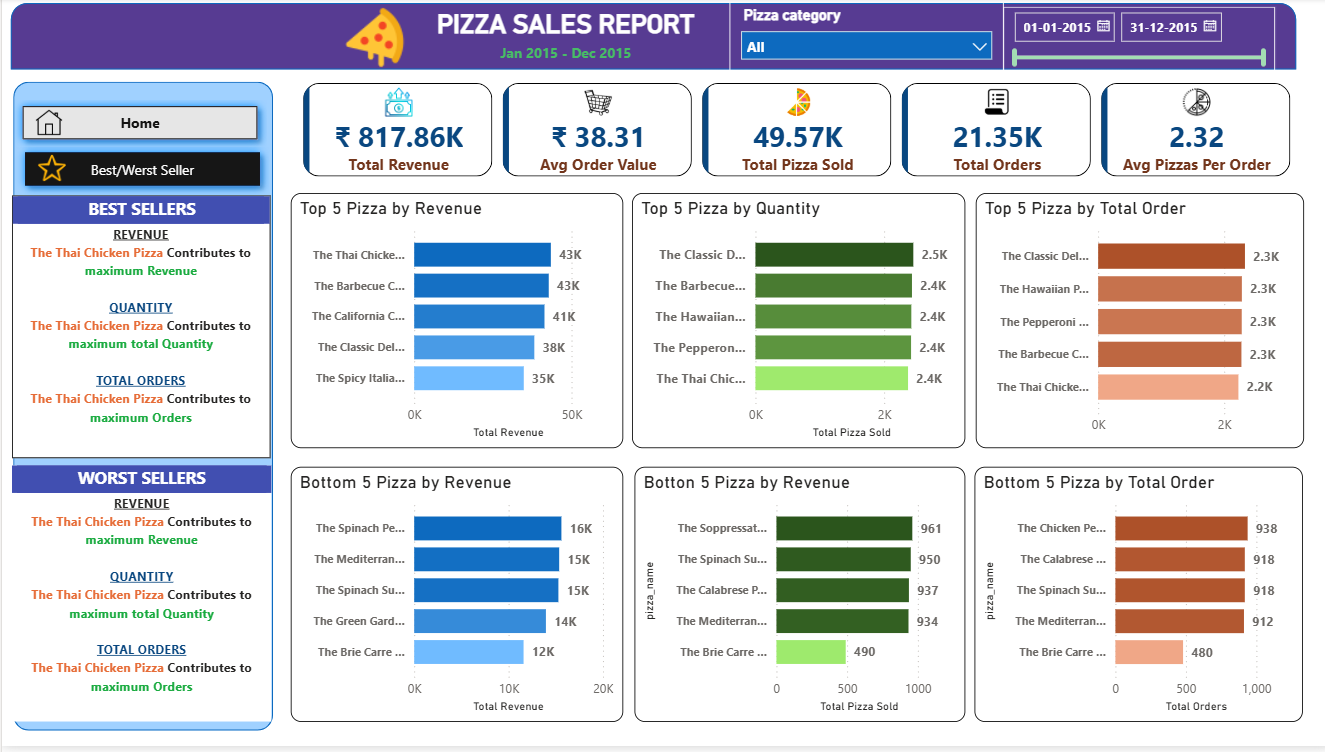

The page's visual inventory and layout, read from the dashboard file:
{"tool":"powerbi","page":{"name":"Best/Werst Seller","canvas":[1280,720],"ordinal":1},"visuals":[{"type":"group","id":"g1","title":"Group 1","box":[9,5.2,1237.2,64],"z":0},{"type":"pageNavigator","box":[13.5,139.9,245,50.4],"z":0,"group":"g6"},{"type":"slicer","fields":{"Values":["Pizza_Sales_Data.pizza_category"]},"box":[700,2.3,264,68.6],"z":1000},{"type":"shape","box":[10.5,80.2,250,624.4],"z":1000,"group":"g2"},{"type":"image","box":[33.9,149.5,28.8,28.8],"z":1000,"group":"g6"},{"type":"textbox","title":"BEST SELLERS","box":[10,190,248.4,252.9],"z":1000,"group":"g3"},{"type":"shape","box":[9,5.2,1237.2,64],"z":2000,"group":"g1"},{"type":"cardVisual","fields":{"Data":["Pizza_Sales_Data.Total_Revenue","Pizza_Sales_Data.Avg_Order_Value","Pizza_Sales_Data.Total_Pizza_Sold","Pizza_Sales_Data.Total_Orders","Pizza_Sales_Data.Avg_Pizzas_per_Order"]},"box":[278.2,70.2,974.8,114.5],"z":2000},{"type":"slicer","fields":{"Values":["Date Table.Date"]},"box":[964,8.1,261.6,62.8],"z":3000},{"type":"textbox","title":"PIZZA SALES REPORT","box":[398.4,10.8,288.8,52],"z":3000,"group":"g1"},{"type":"textbox","title":"WORST SELLERS","box":[10,449.7,249.5,246.2],"z":3000,"group":"g3"},{"type":"image","box":[309.3,5.8,98.8,64],"z":4000},{"type":"group","id":"g2","title":"Group 3","box":[10.5,80.2,250,624.4],"z":5000},{"type":"barChart","title":"Top 5 Pizza by Revenue","fields":{"Y":["Pizza_Sales_Data.Total Revenue"],"Category":["Pizza_Sales_Data.pizza_name"]},"box":[278.2,188.5,319.7,245.5],"z":5000,"group":"g4"},{"type":"barChart","title":"Top 5 Pizza by Quantity","fields":{"Y":["Pizza_Sales_Data.Total Pizza Sold"],"Category":["Pizza_Sales_Data.pizza_name"]},"box":[607,188.5,320.8,245.5],"z":6000,"group":"g4"},{"type":"group","id":"g3","title":"Group 1","box":[10,190,249.6,505.8],"z":6000},{"type":"group","id":"g4","title":"Group 1","box":[278.2,188.1,974.8,508.3],"z":7000},{"type":"barChart","title":"Top 5 Pizza by Total Order","fields":{"Category":["Pizza_Sales_Data.pizza_name"],"Y":["Pizza_Sales_Data.Total Orders"]},"box":[937.4,188.1,316,245.6],"z":7000,"group":"g4"},{"type":"pageNavigator","box":[11.3,94.7,245,50.4],"z":8000,"group":"g5"},{"type":"barChart","title":"Bottom 5 Pizza by Revenue","fields":{"Y":["Pizza_Sales_Data.Total Revenue"],"Category":["Pizza_Sales_Data.pizza_name"]},"box":[278.2,451,319.7,245.5],"z":8000,"group":"g4"},{"type":"group","id":"g5","title":"Group 4","box":[11.3,94.7,245,50.4],"z":9000},{"type":"image","box":[31.7,106.7,27.6,26.4],"z":9000,"group":"g5"},{"type":"barChart","title":"Botton 5 Pizza by Revenue","fields":{"Y":["Pizza_Sales_Data.Total Pizza Sold"],"Category":["Pizza_Sales_Data.pizza_name"]},"box":[609.3,451,318.5,245.5],"z":9000,"group":"g4"},{"type":"group","id":"g6","title":"Group 2","box":[13.5,139.9,245,50.4],"z":9500},{"type":"barChart","title":"Bottom 5 Pizza by Total Order","fields":{"Category":["Pizza_Sales_Data.pizza_name"],"Y":["Pizza_Sales_Data.Total Orders"]},"box":[936.3,451,316,245.6],"z":10000,"group":"g4"}]}

Visuals, with their boxes in screenshot pixels (x1, y1, x2, y2), scaled from the page's 1280x720 canvas onto the 1325x752 screenshot:
"Group 1" group: rect(9, 5, 1290, 72)
pageNavigator: rect(14, 146, 268, 199)
slicer - Pizza_Sales_Data.pizza_category: rect(725, 2, 998, 74)
shape: rect(11, 84, 270, 736)
image: rect(35, 156, 65, 186)
"BEST SELLERS" textbox: rect(10, 198, 267, 463)
shape: rect(9, 5, 1290, 72)
cardVisual - Pizza_Sales_Data.Total_Revenue x Pizza_Sales_Data.Avg_Order_Value: rect(288, 73, 1297, 193)
slicer - Date Table.Date: rect(998, 8, 1269, 74)
"PIZZA SALES REPORT" textbox: rect(412, 11, 711, 66)
"WORST SELLERS" textbox: rect(10, 470, 269, 727)
image: rect(320, 6, 422, 73)
"Group 3" group: rect(11, 84, 270, 736)
"Top 5 Pizza by Revenue" barChart: rect(288, 197, 619, 453)
"Top 5 Pizza by Quantity" barChart: rect(628, 197, 960, 453)
"Group 1" group: rect(10, 198, 269, 727)
"Group 1" group: rect(288, 196, 1297, 727)
"Top 5 Pizza by Total Order" barChart: rect(970, 196, 1297, 453)
pageNavigator: rect(12, 99, 265, 152)
"Bottom 5 Pizza by Revenue" barChart: rect(288, 471, 619, 727)
"Group 4" group: rect(12, 99, 265, 152)
image: rect(33, 111, 61, 139)
"Botton 5 Pizza by Revenue" barChart: rect(631, 471, 960, 727)
"Group 2" group: rect(14, 146, 268, 199)
"Bottom 5 Pizza by Total Order" barChart: rect(969, 471, 1296, 728)
